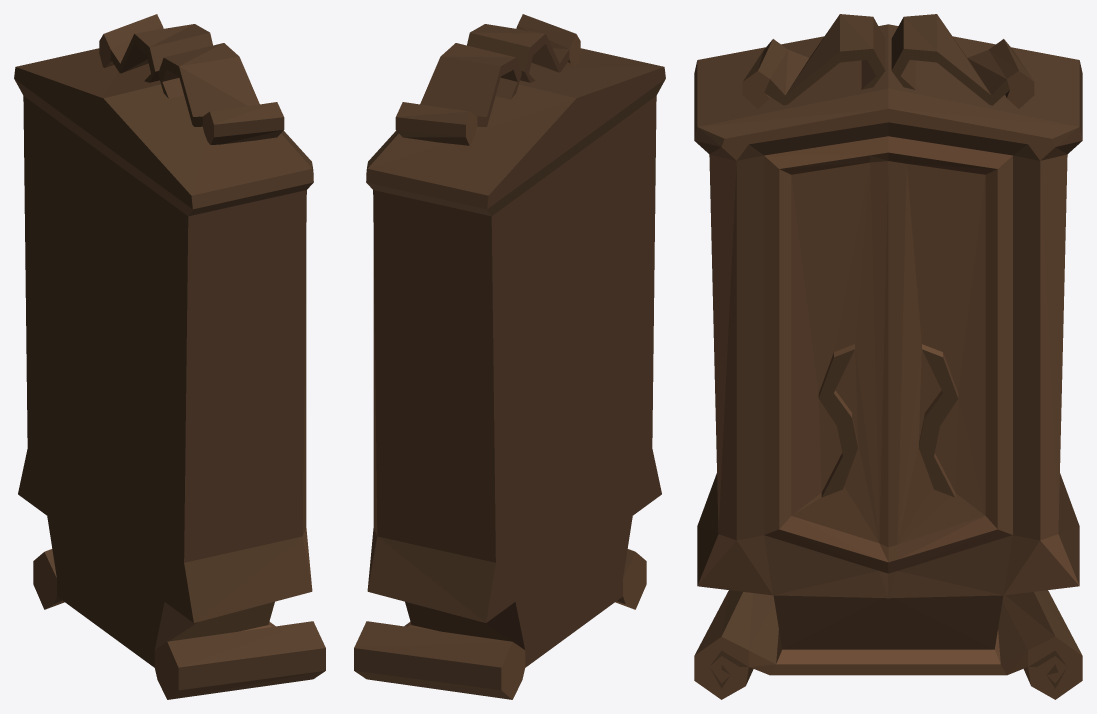
File: armour-case.gltf
3 views of the same model, side by side, from view 1: azimuth 30°, elevation 25°; view 2: azimuth 150°, elevation 25°; view 3: azimuth 270°, elevation 25° (orthographic). The views are drawn at different scales.
Bounding box in the file's own units: 56 × 234 × 128.
Materials: 1 (1 with a texture image).
